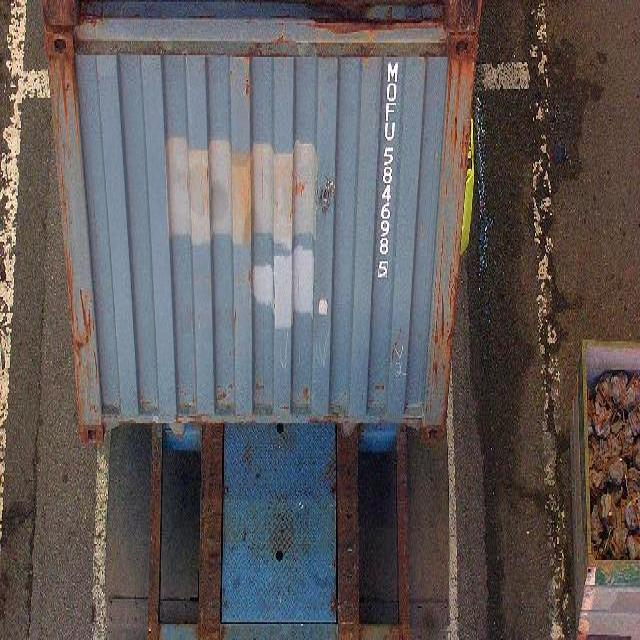container_number: (370, 49, 396, 294)
